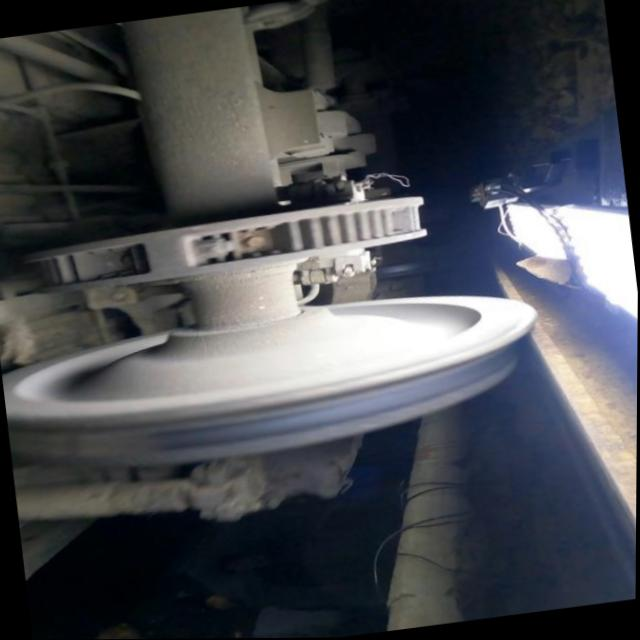Discoloration: (163, 405, 333, 451)
Shelling: (12, 426, 164, 455)
Wheel: (3, 295, 537, 464)
